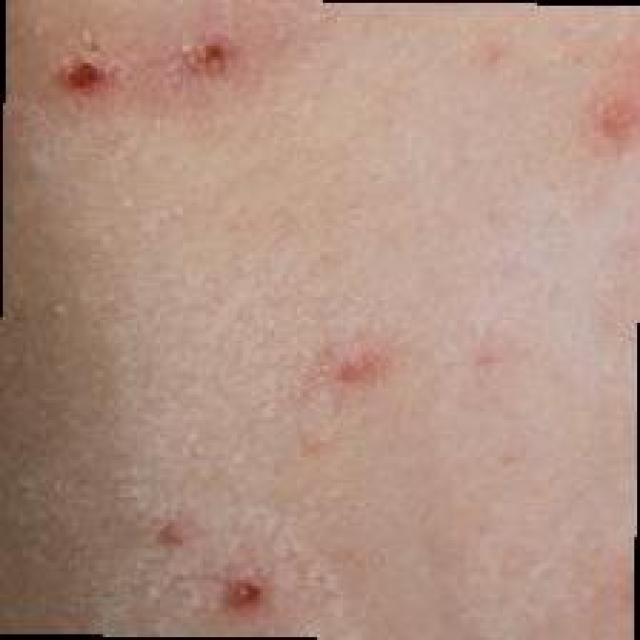others: (20, 14, 640, 637)
